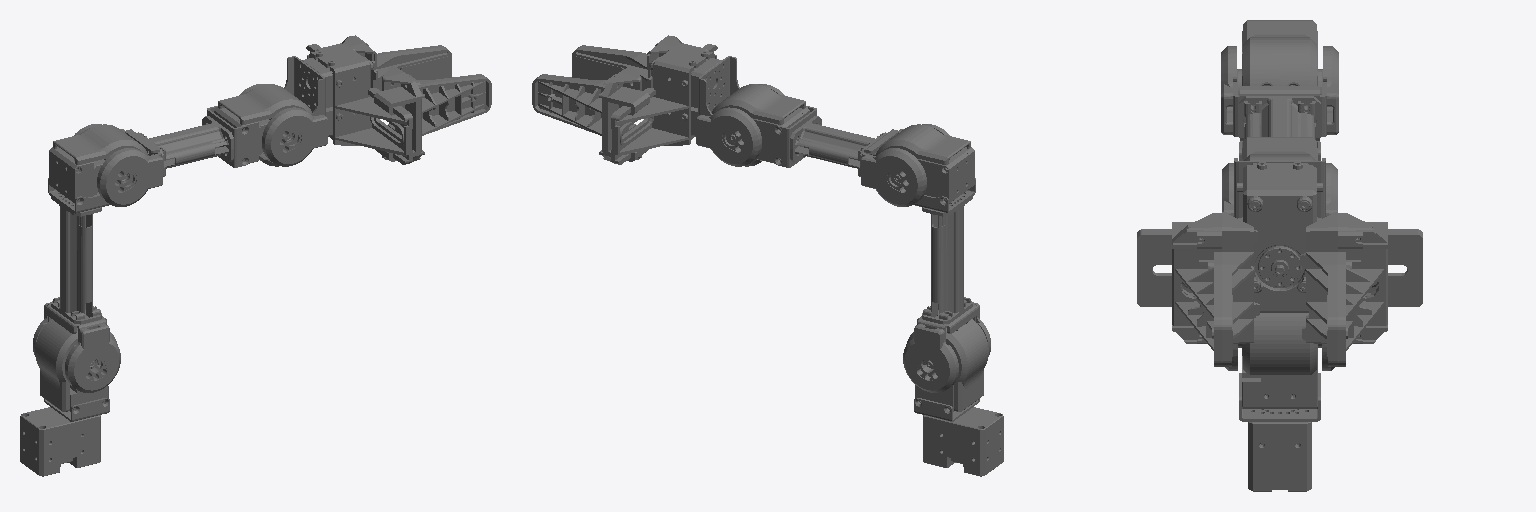
robot.urdf — open_manipulator:
<?xml version="1.0" ?>
<!-- =================================================================================== -->
<!-- |    This document was autogenerated by xacro from open_manipulator/urdf/open_manipulator_robot.urdf.xacro | -->
<!-- |    EDITING THIS FILE BY HAND IS NOT RECOMMENDED                                 | -->
<!-- =================================================================================== -->
<!-- Open_Manipulator Chain -->
<robot name="open_manipulator">

  <!-- Colors -->
  <material name="black">
    <color rgba="0.0 0.0 0.0 1.0"/>
  </material>
  <material name="white">
    <color rgba="1.0 1.0 1.0 1.0"/>
  </material>
  <material name="red">
    <color rgba="0.8 0.0 0.0 1.0"/>
  </material>
  <material name="blue">
    <color rgba="0.0 0.0 0.8 1.0"/>
  </material>
  <material name="green">
    <color rgba="0.0 0.8 0.0 1.0"/>
  </material>
  <material name="grey">
    <color rgba="0.5 0.5 0.5 1.0"/>
  </material>
  <material name="orange">
    <color rgba="1.0 0.4235294117647059 0.0392156862745098 1.0"/>
  </material>
  <material name="brown">
    <color rgba="0.8705882352941177 0.8117647058823529 0.7647058823529411 1.0"/>
  </material>

  <!-- Link 1 -->
  <link name="link1">
    <visual>
      <origin rpy="0 0 0" xyz="0 0 0"/>
      <geometry>
        <mesh filename="./meshes/chain_link1.obj" scale="0.001 0.001 0.001"/>
      </geometry>
      <material name="grey"/>
    </visual>
    <collision>
      <origin rpy="0 0 0" xyz="0 0 0"/>
      <geometry>
        <mesh filename="./meshes/chain_link1.obj" scale="0.001 0.001 0.001"/>
      </geometry>
    </collision>
    <inertial>
      <origin xyz="3.0876154e-04 0.0000000e+00 -1.2176461e-04"/>
      <mass value="7.9119962e-02"/>
      <inertia ixx="1.2505234e-05" ixy="0.0" ixz="-1.7855208e-07" iyy="2.1898364e-05" iyz="0.0" izz="1.9267361e-05"/>
    </inertial>
  </link>
  <!-- Joint 1 -->
  <joint name="joint1" type="revolute">
    <dynamics damping="1.0"/>
    <parent link="link1"/>
    <child link="link2"/>
    <origin rpy="0 0 0" xyz="0.012 0.0 0.017"/>
    <axis xyz="0 0 1"/>
    <limit effort="1" lower="-3.14159" upper="3.14159" velocity="4.8"/>
  </joint>
  <!--  Link 2 -->
  <link name="link2">
    <visual>
      <origin rpy="0 0 0" xyz="0 0 0.019"/>
      <geometry>
        <mesh filename="./meshes/chain_link2.obj" scale="0.001 0.001 0.001"/>
      </geometry>
      <material name="grey"/>
    </visual>
    <collision>
      <origin rpy="0 0 0" xyz="0 0 0.019"/>
      <geometry>
        <mesh filename="./meshes/chain_link2.obj" scale="0.001 0.001 0.001"/>
      </geometry>
    </collision>
    <inertial>
      <origin xyz="-3.0184870e-04 5.4043684e-04 0.047433463999999995"/>
      <mass value="9.8406837e-02"/>
      <inertia ixx="3.4543422e-05" ixy="-1.6031095e-08" ixz="-3.8375155e-07" iyy="3.2689329e-05" iyz="2.8511935e-08" izz="1.8850320e-05"/>
    </inertial>
  </link>
  <!--  Joint 2 -->
  <joint name="joint2" type="revolute">
    <dynamics damping="1.0"/>
    <parent link="link2"/>
    <child link="link3"/>
    <origin rpy="0 0 0" xyz="0.0 0.0 0.0595"/>
    <axis xyz="0 1 0"/>
    <limit effort="1" lower="-2.2" upper="1.5" velocity="4.8"/>
  </joint>
  <!--  Link 3 -->
  <link name="link3">
    <visual>
      <origin rpy="0 0 0" xyz="0 0 0"/>
      <geometry>
        <mesh filename="./meshes/chain_link3.obj" scale="0.001 0.001 0.001"/>
      </geometry>
      <material name="grey"/>
    </visual>
    <collision>
      <origin rpy="0 0 0" xyz="0 0 0"/>
      <geometry>
        <mesh filename="./meshes/chain_link3.obj" scale="0.001 0.001 0.001"/>
      </geometry>
    </collision>
    <inertial>
      <origin xyz="1.0308393e-02 3.7743363e-04 1.0170197e-01"/>
      <mass value="1.3850917e-01"/>
      <inertia ixx="3.3055381e-04" ixy="-9.7940978e-08" ixz="-3.8505711e-05" iyy="3.4290447e-04" iyz="-1.5717516e-06" izz="6.0346498e-05"/>
    </inertial>
  </link>
  <!--  Joint 3 -->
  <joint name="joint3" type="revolute">
    <dynamics damping="1.0"/>
    <parent link="link3"/>
    <child link="link4"/>
    <origin rpy="0 0 0" xyz="0.024 0 0.128"/>
    <axis xyz="0 1 0"/>
    <limit effort="1" lower="-2" upper="1.7" velocity="4.8"/>
  </joint>
  <!--  Link 4 -->
  <link name="link4">
    <visual>
      <origin rpy="0 0 0" xyz="0 0 0"/>
      <geometry>
        <mesh filename="./meshes/chain_link4.obj" scale="0.001 0.001 0.001"/>
      </geometry>
      <material name="grey"/>
    </visual>
    <collision>
      <origin rpy="0 0 0" xyz="0 0 0"/>
      <geometry>
        <mesh filename="./meshes/chain_link4.obj" scale="0.001 0.001 0.001"/>
      </geometry>
    </collision>
    <inertial>
      <origin xyz="9.0909590e-02 3.8929816e-04 2.2413279e-04"/>
      <mass value="1.3274562e-01"/>
      <inertia ixx="3.0654178e-05" ixy="-1.2764155e-06" ixz="-2.6874417e-07" iyy="2.4230292e-04" iyz="1.1559550e-08" izz="2.5155057e-04"/>
    </inertial>
  </link>
  <!--  Joint 4 -->
  <joint name="joint4" type="revolute">
    <dynamics damping="1.0"/>
    <parent link="link4"/>
    <child link="link5"/>
    <origin rpy="0 0 0" xyz="0.124 0.0 0.0"/>
    <axis xyz="0 1 0"/>
    <limit effort="1" lower="-1.7" upper="1.97" velocity="4.8"/>
  </joint>
  <!--  Link 5 -->
  <link name="link5">
    <visual>
      <origin rpy="0 0 0" xyz="0 0 0"/>
      <geometry>
        <mesh filename="./meshes/chain_link5.obj" scale="0.001 0.001 0.001"/>
      </geometry>
      <material name="grey"/>
    </visual>
    <collision>
      <origin rpy="0 0 0" xyz="0 0 0"/>
      <geometry>
        <mesh filename="./meshes/chain_link5.obj" scale="0.001 0.001 0.001"/>
      </geometry>
    </collision>
    <inertial>
      <origin xyz="4.4206755e-02 3.6839985e-07 8.9142216e-03"/>
      <mass value="1.4327573e-01"/>
      <inertia ixx="8.0870749e-05" ixy="0.0" ixz="-1.0157896e-06" iyy="7.5980465e-05" iyz="0.0" izz="9.3127351e-05"/>
    </inertial>
  </link>
  <!--  Gripper joint -->
  <joint name="gripper" type="prismatic">
    <dynamics damping="1.0"/>
    <parent link="link5"/>
    <child link="gripper_link"/>
    <origin rpy="0 0 0" xyz="0.0817 0.021 0.0"/>
    <axis xyz="0 1 0"/>
    <limit effort="1" lower="-0.011" upper="0.02" velocity="4.8"/>
  </joint>
  <!--  Gripper link -->
  <link name="gripper_link">
    <visual>
      <origin rpy="0 0 0" xyz="0.0 0.0 0"/>
      <geometry>
        <mesh filename="./meshes/chain_link_grip_l.obj" scale="0.001 0.001 0.001"/>
      </geometry>
      <material name="grey"/>
    </visual>
    <collision>
      <origin rpy="0 0 0" xyz="0.0 0.0 0"/>
      <geometry>
        <mesh filename="./meshes/chain_link_grip_l.obj" scale="0.001 0.001 0.001"/>
      </geometry>
    </collision>
    <inertial>
      <origin xyz="0 0 0"/>
      <mass value="1.0e-03"/>
      <inertia ixx="1e-06" ixy="0" ixz="0" iyy="1e-06" iyz="0" izz="1e-06"/>
    </inertial>
  </link>
  <!--  Gripper joint sub -->
  <joint name="gripper_sub" type="prismatic">
    <dynamics damping="1.0"/>
    <parent link="link5"/>
    <child link="gripper_link_sub"/>
    <origin rpy="0 0 0" xyz="0.0817 -0.021 0"/>
    <axis xyz="0 -1 0"/>
    <limit effort="1" lower="-0.011" upper="0.02" velocity="4.8"/>
    <mimic joint="gripper" multiplier="1"/>
  </joint>
  <!--  Gripper link sub -->
  <link name="gripper_link_sub">
    <visual>
      <origin rpy="0 0 0" xyz="0.0 -0.0 0"/>
      <geometry>
        <mesh filename="./meshes/chain_link_grip_r.obj" scale="0.001 0.001 0.001"/>
      </geometry>
      <material name="grey"/>
    </visual>
    <collision>
      <origin rpy="0 0 0" xyz="0.0 -0.0 0"/>
      <geometry>
        <mesh filename="./meshes/chain_link_grip_r.obj" scale="0.001 0.001 0.001"/>
      </geometry>
    </collision>
    <inertial>
      <origin xyz="0 0 0"/>
      <mass value="1.0e-03"/>
      <inertia ixx="1e-06" ixy="0" ixz="0" iyy="1e-06" iyz="0" izz="1e-06"/>
    </inertial>
  </link>
  <!-- end effector joint -->
  <joint name="end_effector_joint" type="fixed">
    <origin rpy="0 0 0" xyz="0.126 0.0 0.0"/>
    <parent link="link5"/>
    <child link="end_effector_link"/>
  </joint>
  <!-- end effector link -->
  <link name="end_effector_link">
    <inertial>
      <mass value="0.001"/>
      <origin xyz="0 0 0"/>
      <inertia ixx="1e-06" ixy="0" ixz="0" iyy="1e-06" iyz="0" izz="1e-06"/>
    </inertial>
    <visual>
      <origin rpy="0 0 0" xyz="0 0 0"/>
      <geometry>
        <!-- <box size="0.005 0.005 0.005"/> -->
        <box size="0.000005 0.000005 0.000005"/>
      </geometry>
      <material name="green"/>
    </visual>
    <!-- <inertial>
      <origin xyz="0 0 0"/>
      <mass value="1.0e-06"/>
      <inertia ixx="1.0e-10" ixy="0.0" ixz="0.0" iyy="1.0e-10" iyz="0.0" izz="1.0e-10"/>
    </inertial> -->
  </link>
  <!-- Realsense Camera Joint Position -->
  <!--   <joint name="camera_joint" type="fixed">
    <axis xyz="0 1 0" />
    <origin xyz="0.070 0.032 0.052" rpy="0 0 0"/> 
    <parent link="link5"/>
    <child link="camera_link"/>
  </joint>

  <link name="camera_link"/> -->

  <!-- World -->
  <!-- <link name="world"/>
  <joint name="world_fixed" type="fixed">
    <origin rpy="0 0 0" xyz="0 0 0"/>
    <parent link="world"/>
    <child link="link1"/>
  </joint> -->
  
</robot>

--- Facts derived from the render (not from the file) ---
Views: 3 orthographic renders of the robot side by side, from view 1: azimuth 30°, elevation 25°; view 2: azimuth 150°, elevation 25°; view 3: azimuth 270°, elevation 25°.
Model open_manipulator with 8 links and 7 joints (4 revolute, 2 prismatic, 1 fixed), rooted at link1, posed all joints at 0.
Visible links, largest first — view 1: link3, link5, link4, gripper_link_sub, link1, link2, gripper_link; view 2: link3, link5, link4, gripper_link, link1, link2, gripper_link_sub; view 3: link5, gripper_link, gripper_link_sub, link4, link2, link3, link1.
Link boxes in pixels (x1,y1,x2,y2): link3: (33,124,148,392); link5: (239,44,412,166); link4: (74,84,311,206); gripper_link_sub: (374,66,491,161); link1: (20,407,100,476); link2: (35,319,117,421); gripper_link: (316,35,451,90); link3: (875,124,990,392); link5: (611,44,784,166); link4: (712,84,949,206); gripper_link: (532,66,649,161); link1: (923,407,1003,476); link2: (906,319,988,421); gripper_link_sub: (572,35,707,90); link5: (1137,158,1422,312); gripper_link: (1300,212,1387,366); gripper_link_sub: (1172,212,1259,366); link4: (1221,46,1338,160); link2: (1238,313,1321,421); link3: (1225,20,1334,370); link1: (1248,422,1311,491).
Bounding box of the posed robot: 0.33 × 0.1286 × 0.2442 m (x, y, z).
7 mesh visuals loaded from 7 distinct referenced files (7 OBJ).
